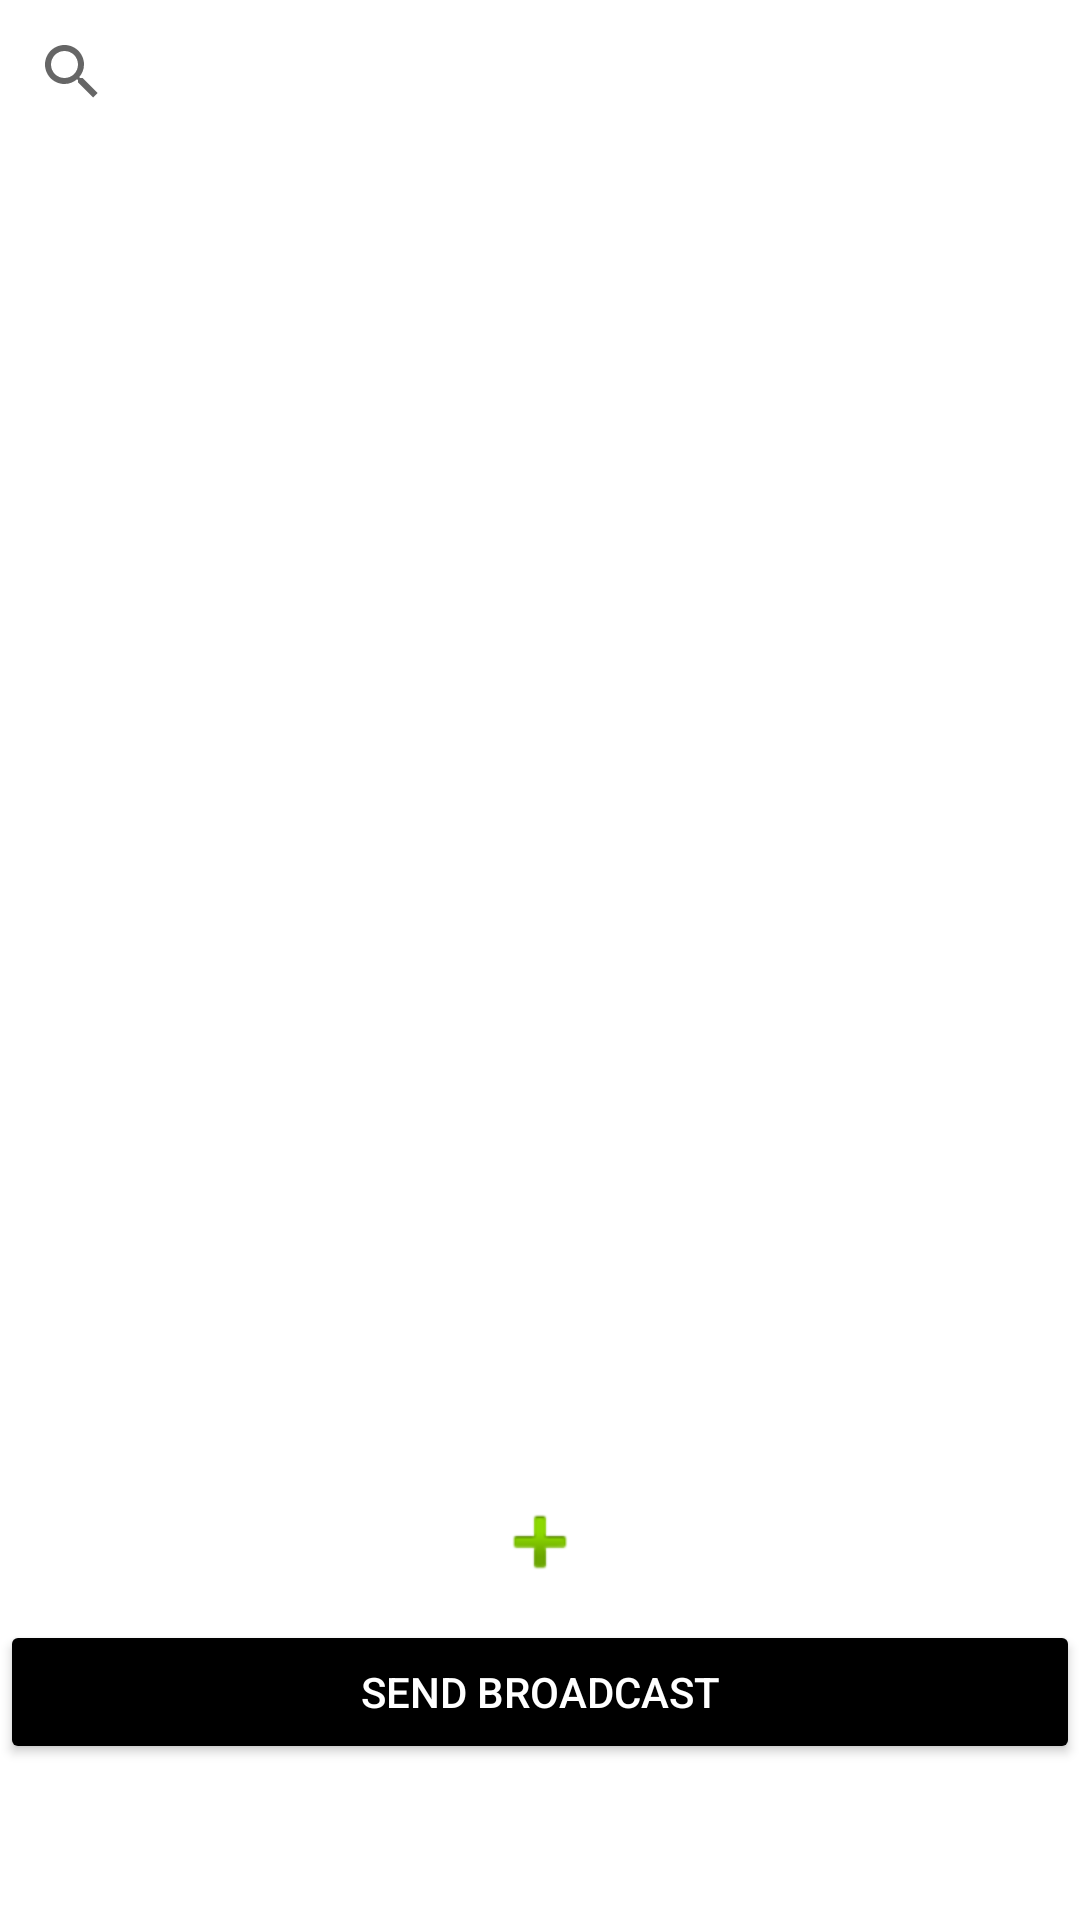

Named icons in this screenshot (1080*1920) and their centers, (x,y):
add: (540,1542)
